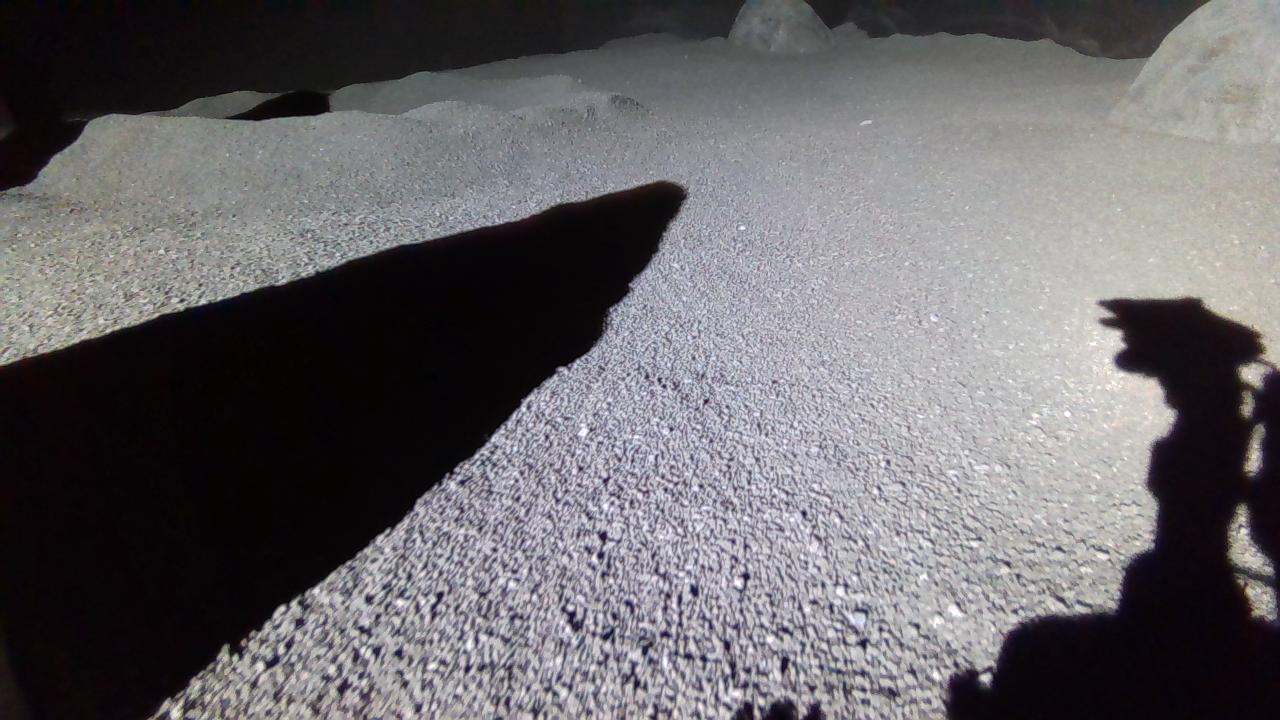rock: (1112, 0, 1280, 142), (729, 0, 836, 51)
